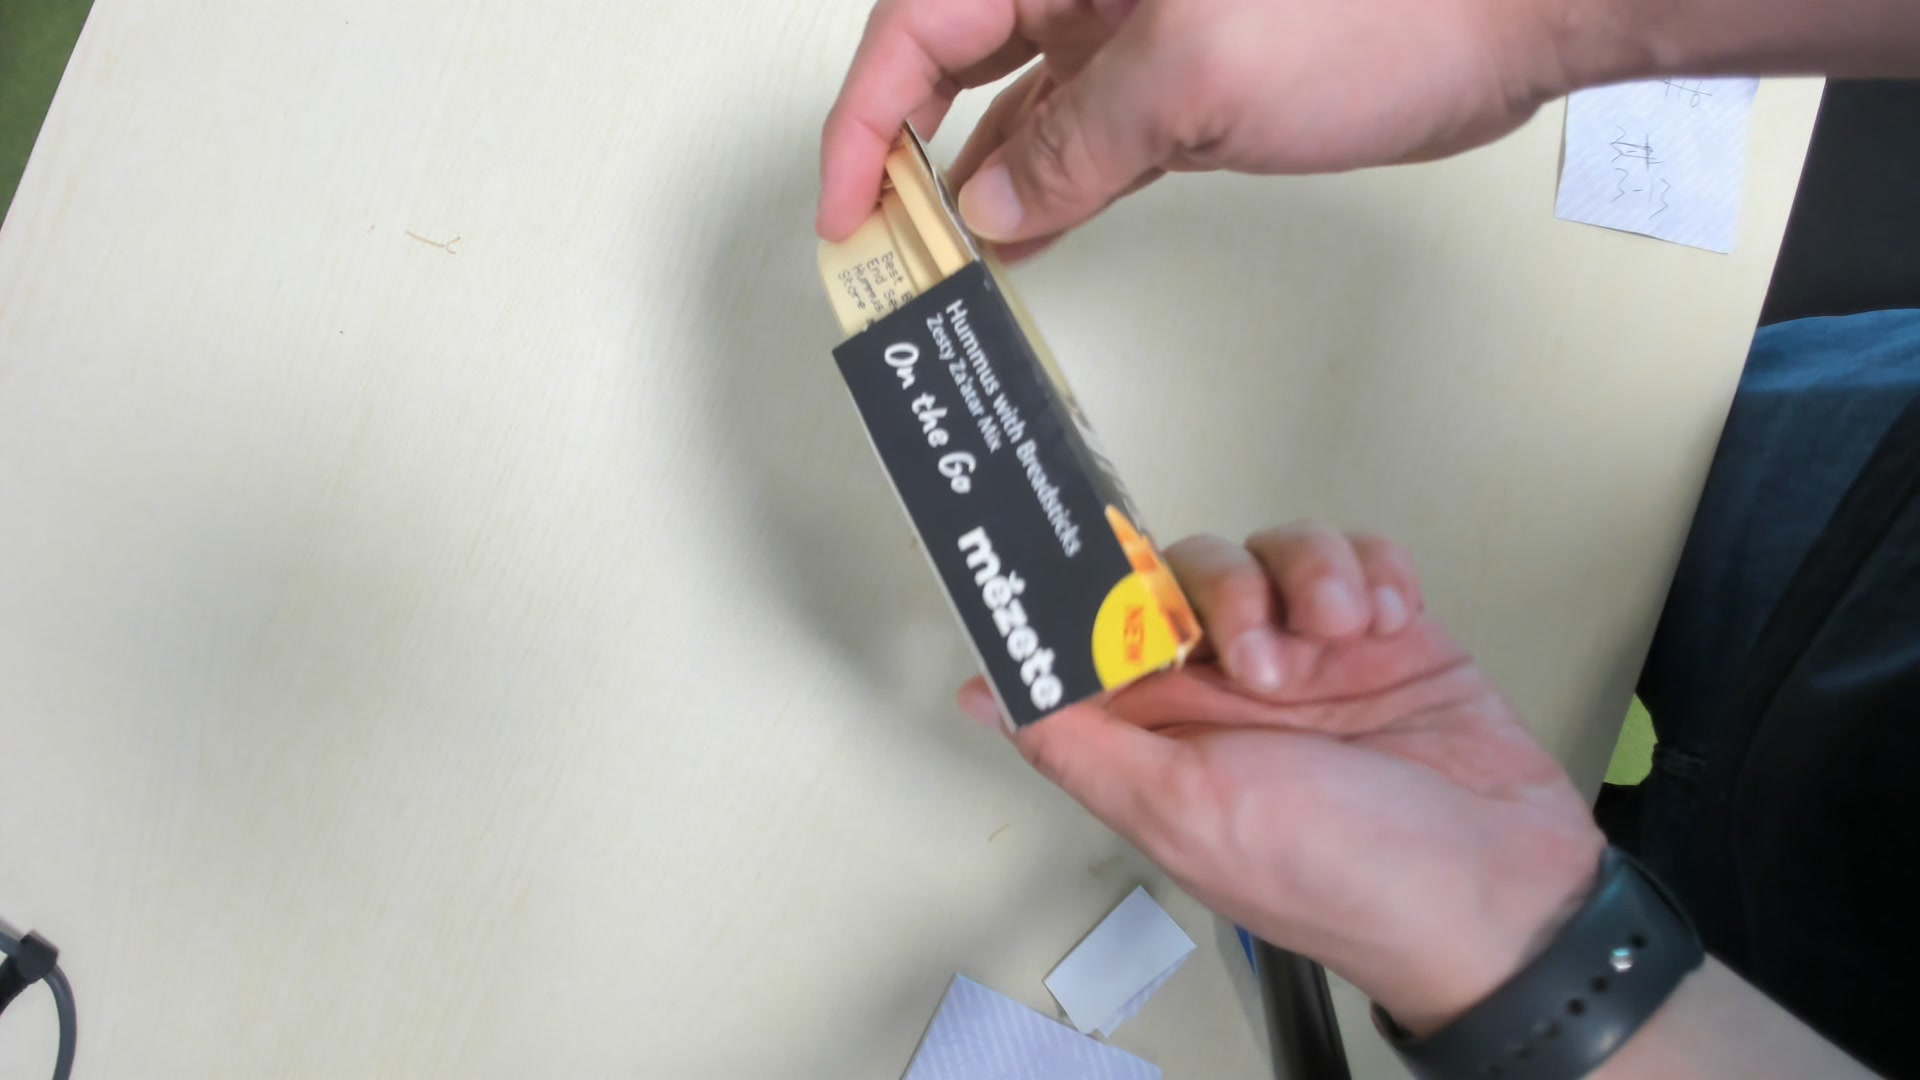InstantMeals_0-99g_NonHalal_NonHealthy: (814, 117, 1200, 729)
